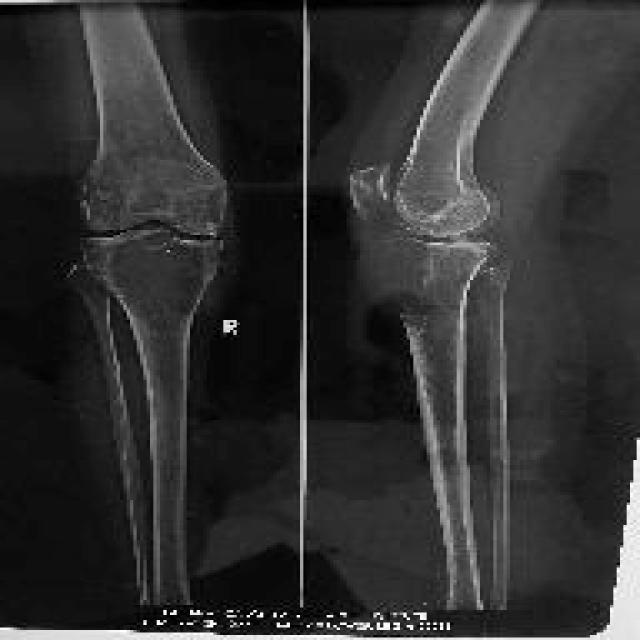bone-cancer: (344, 197, 436, 338), (103, 229, 208, 322)
